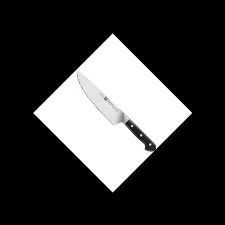k1: (75, 69, 130, 128)
